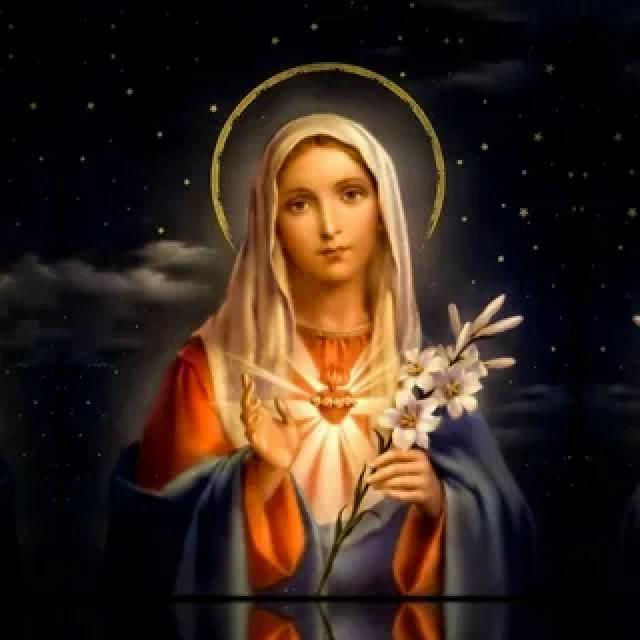mother of god: (102, 98, 550, 599)
